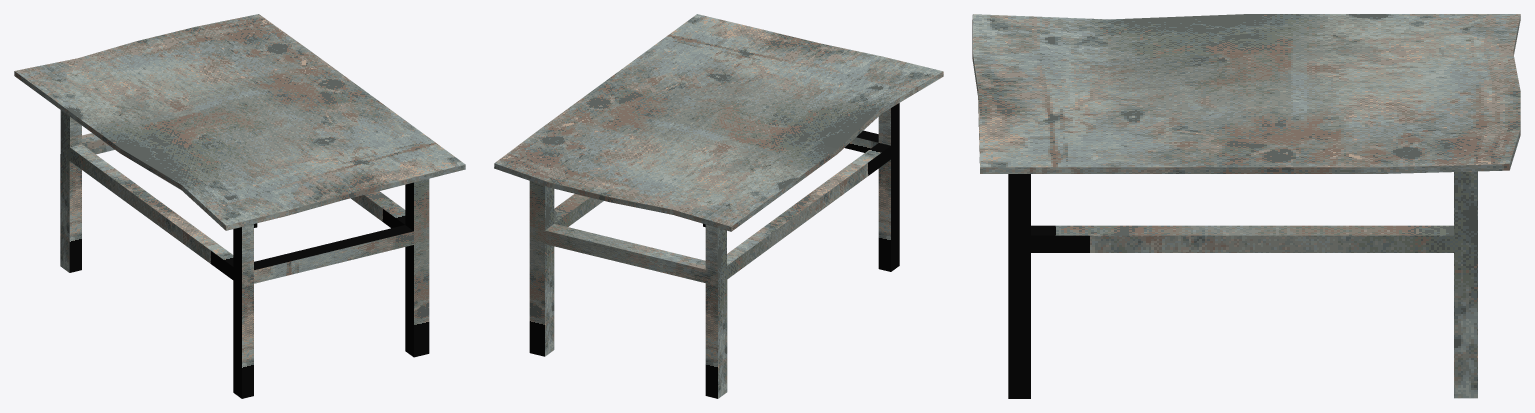
The model's file is retro_table.glb.
3 renders of one model, left to right at view 1: azimuth 30°, elevation 25°; view 2: azimuth 150°, elevation 25°; view 3: azimuth 270°, elevation 25°, orthographic. The views are drawn at different scales.
Visible parts, largest first — view 1: Plane, Cube.001; view 2: Plane, Cube.001; view 3: Plane, Cube.001.
Part boxes in pixels (x1,y1,x2,y2): Plane: (14,14,465,230); Cube.001: (60,110,429,398); Plane: (494,14,943,231); Cube.001: (529,103,899,398); Plane: (972,14,1520,173); Cube.001: (1008,171,1477,398).
Bounding box in the file's own units: 1.01 × 0.78 × 1.52.
Materials: 2 (2 with a texture image).
